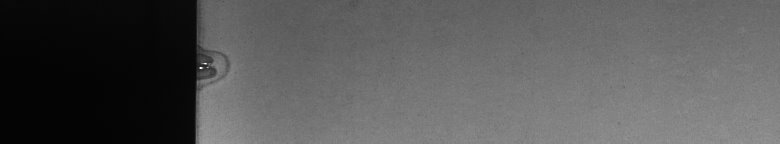hb: (208, 45, 236, 90)
